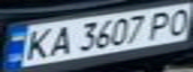0: (109, 15, 133, 47)
3: (75, 19, 96, 53)
6: (93, 17, 115, 50)
7: (124, 11, 151, 43)
A: (45, 23, 75, 57)
K: (18, 25, 57, 62)
O: (163, 6, 193, 36)
P: (145, 8, 178, 39)
